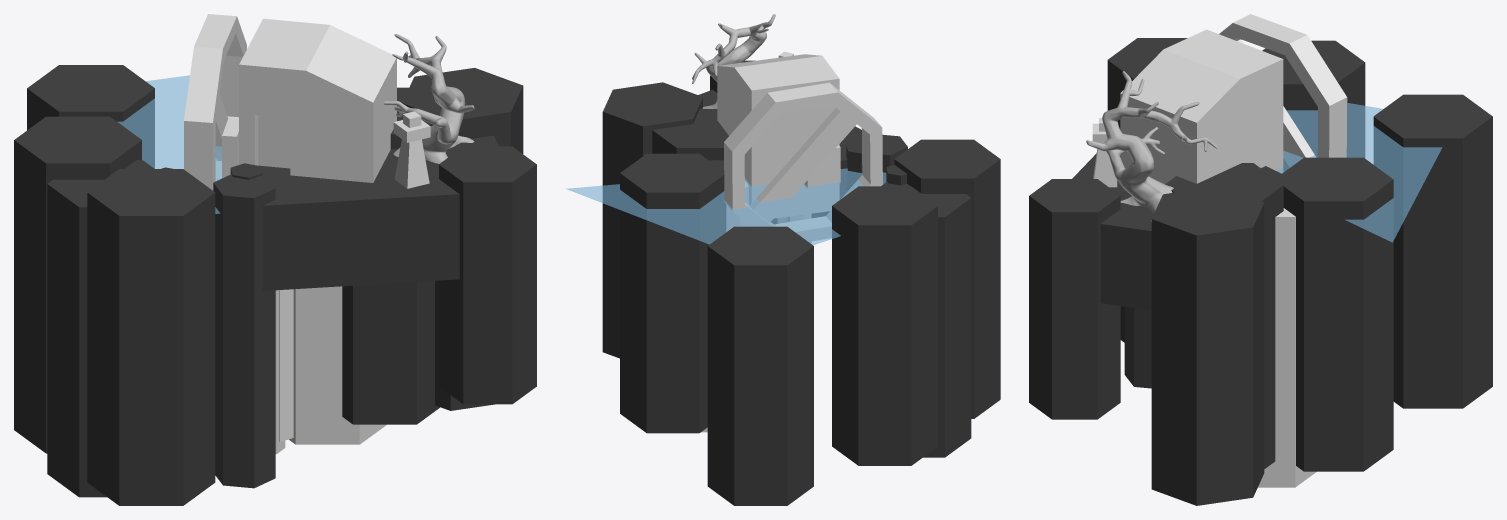
File: BRUME_Blockout_H_Obstacle1.fbx
3 views of the same model, side by side, from view 1: azimuth 30°, elevation 25°; view 2: azimuth 150°, elevation 25°; view 3: azimuth 270°, elevation 25° (orthographic). The views are drawn at different scales.
Parts seen in each view (by area): view 1: Cylinder.159, SM_Moulin, Cylinder.154, Cylinder.153, Cylinder.171, Cylinder.156, Cylinder.152, Cylinder.157, Cylinder.149, SM_Moulin.002, Cylinder.160, Cylinder.151 (+5 smaller); view 2: Cylinder.160, Cylinder.156, Cylinder.165, Cylinder.159, SM_Moulin.002, SM_Moulin, Cylinder.151, Cylinder.157, SM_Cascade_Eau.001, Cylinder.152, SM_Arbre_001.002, Cylinder.153 (+2 smaller); view 3: Cylinder.151, Cylinder.160, Cylinder.165, Cylinder.154, SM_Moulin, SM_Cascade_Eau.001, SM_Moulin.002, Cylinder.149, Cylinder.153, Cylinder.152, SM_Arbre_001.002, Cylinder.156 (+3 smaller).
Boxes of the visible parts, x1,y1,x2,y2 form: Cylinder.159: (87, 169, 215, 505); SM_Moulin: (222, 18, 396, 182); Cylinder.154: (439, 146, 536, 404); Cylinder.153: (259, 135, 498, 290); Cylinder.171: (213, 174, 275, 488); Cylinder.156: (14, 116, 141, 453); Cylinder.152: (342, 87, 439, 424); Cylinder.157: (47, 160, 154, 497); Cylinder.149: (289, 286, 386, 444); SM_Moulin.002: (184, 14, 246, 190); Cylinder.160: (27, 65, 154, 168); Cylinder.151: (402, 68, 523, 410); Cylinder.160: (707, 226, 813, 505); Cylinder.156: (832, 186, 937, 465); Cylinder.165: (620, 153, 725, 433); Cylinder.159: (894, 139, 1000, 418); SM_Moulin.002: (724, 82, 882, 241); SM_Moulin: (717, 54, 840, 218); Cylinder.151: (602, 82, 702, 358); Cylinder.157: (881, 181, 971, 457); SM_Cascade_Eau.001: (566, 168, 886, 245); Cylinder.152: (652, 109, 728, 160); SM_Arbre_001.002: (692, 14, 775, 108); Cylinder.153: (698, 90, 861, 223); Cylinder.151: (1151, 186, 1264, 505); Cylinder.160: (1373, 94, 1492, 408); Cylinder.165: (1275, 157, 1393, 471); Cylinder.154: (1029, 179, 1120, 419); SM_Moulin: (1120, 29, 1283, 184); SM_Cascade_Eau.001: (1276, 103, 1442, 242); SM_Moulin.002: (1219, 14, 1347, 167); Cylinder.149: (1258, 208, 1316, 487); Cylinder.153: (1072, 129, 1281, 310); Cylinder.152: (1165, 163, 1283, 468); SM_Arbre_001.002: (1086, 71, 1217, 221); Cylinder.156: (1262, 40, 1365, 171).
Bounding box in the file's own units: 1581 × 1464 × 1554.
